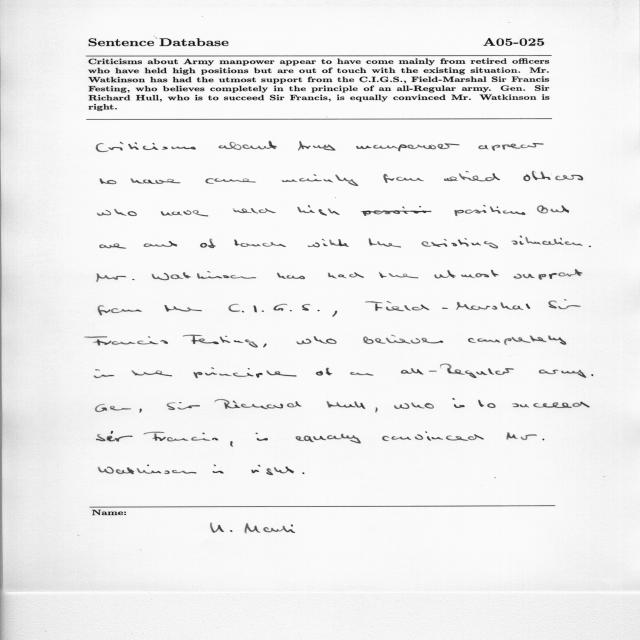word: (361, 205, 526, 216), (365, 301, 530, 311), (401, 364, 514, 378), (193, 368, 297, 379), (382, 431, 484, 441), (96, 142, 196, 152), (468, 335, 566, 345), (183, 335, 258, 348), (356, 143, 460, 152), (152, 271, 256, 280), (282, 174, 358, 186), (99, 465, 197, 474), (215, 399, 302, 409), (421, 238, 498, 249), (85, 337, 168, 346), (144, 432, 218, 442), (229, 304, 320, 312), (363, 335, 443, 344), (512, 236, 583, 246), (514, 270, 583, 280), (296, 434, 361, 444), (444, 171, 500, 182), (524, 171, 584, 181), (512, 401, 590, 408), (219, 141, 277, 150), (479, 143, 544, 151), (435, 270, 499, 278), (98, 305, 142, 316), (297, 205, 340, 216), (251, 465, 294, 475), (539, 369, 586, 378), (234, 239, 286, 247), (96, 404, 142, 413), (96, 431, 133, 442), (298, 141, 335, 151), (384, 174, 425, 183), (97, 273, 135, 282), (161, 210, 208, 217), (308, 239, 349, 247), (369, 238, 401, 248), (297, 336, 337, 344), (327, 401, 365, 409), (131, 178, 181, 184), (206, 178, 256, 184), (507, 433, 544, 441), (549, 300, 581, 309), (97, 209, 137, 216), (394, 402, 434, 409), (164, 305, 202, 312), (167, 402, 200, 410), (233, 208, 276, 214), (537, 206, 569, 214), (131, 371, 172, 377), (379, 272, 418, 278), (328, 273, 364, 279), (144, 241, 177, 247), (94, 370, 114, 379), (277, 273, 305, 279), (200, 239, 216, 248), (478, 400, 496, 408), (316, 368, 333, 376), (100, 244, 126, 249), (452, 398, 465, 408), (100, 179, 117, 185), (256, 433, 268, 441), (350, 372, 373, 376), (213, 465, 224, 473), (332, 311, 337, 317), (230, 441, 233, 447), (263, 344, 267, 348), (375, 407, 378, 412), (591, 374, 593, 376), (303, 472, 305, 474), (589, 246, 591, 247)
